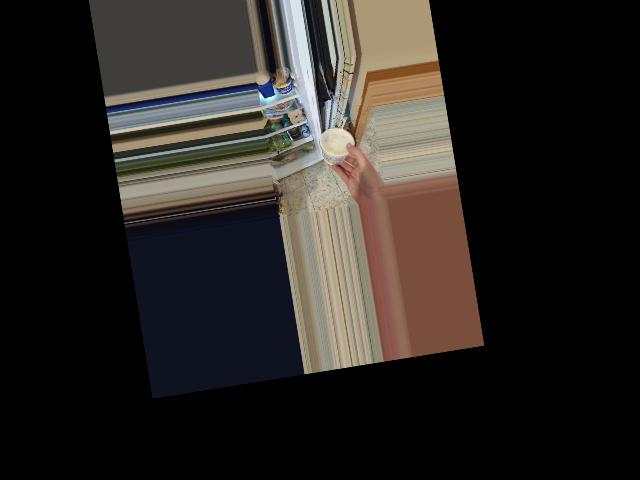cotage: (319, 122, 355, 166)
